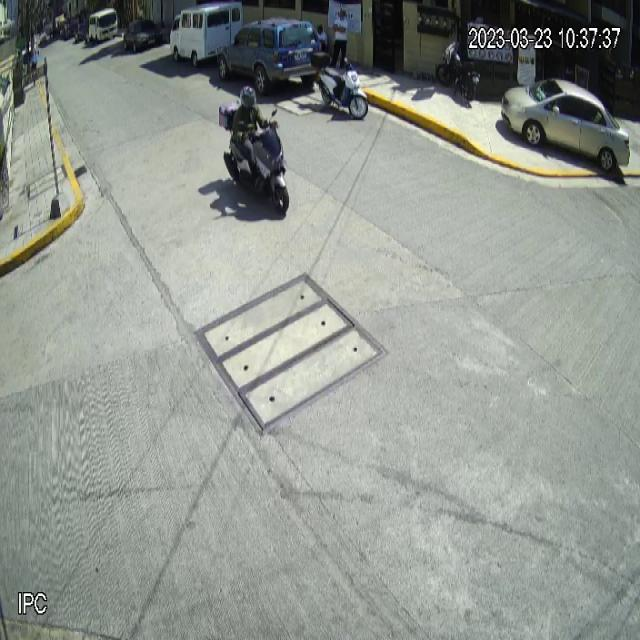Car: (501, 79, 631, 172), (217, 16, 323, 96)
Motorcycle: (219, 100, 290, 214), (309, 49, 369, 120)
Van: (169, 0, 243, 67)
